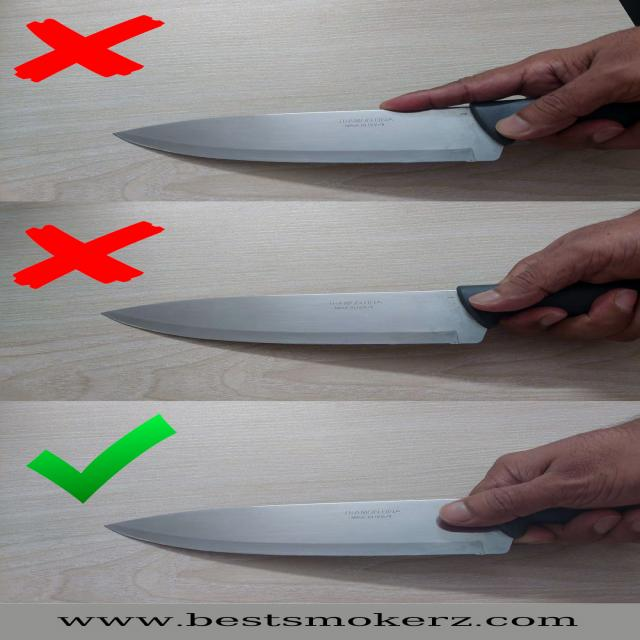knife: (96, 288, 577, 350), (114, 102, 571, 166), (102, 499, 556, 558)
